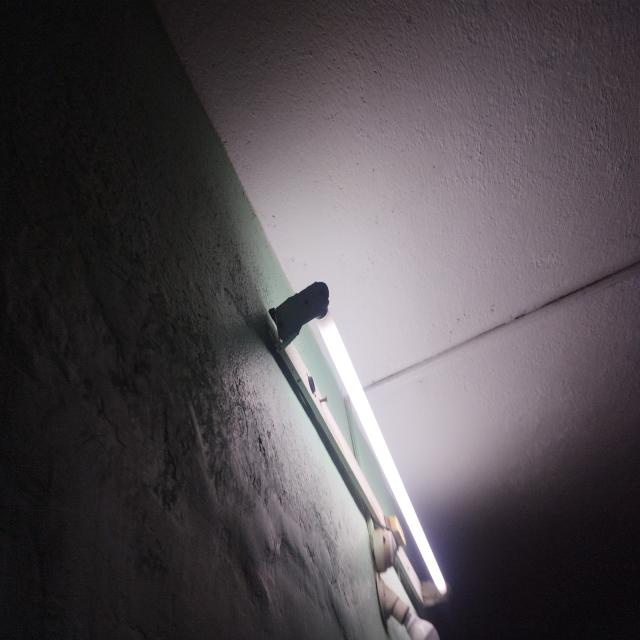tubelight_on: (268, 283, 452, 609)
